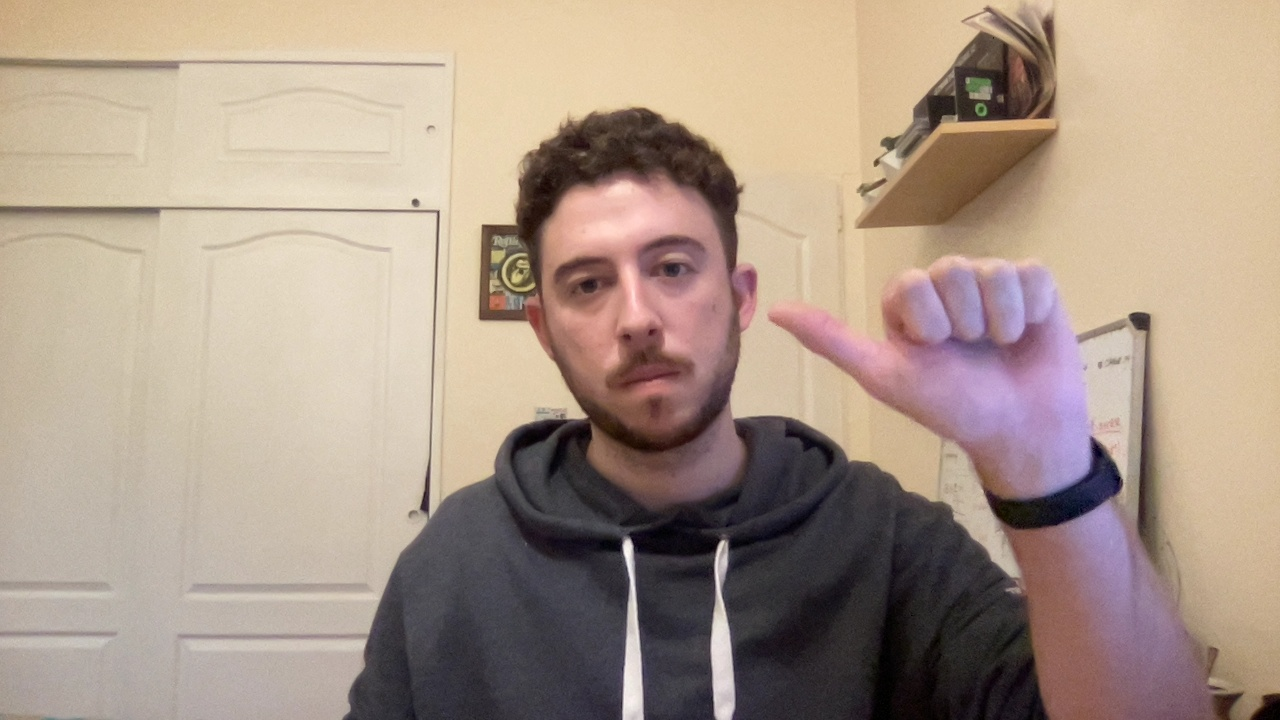pulgar: (750, 232, 1116, 497)
